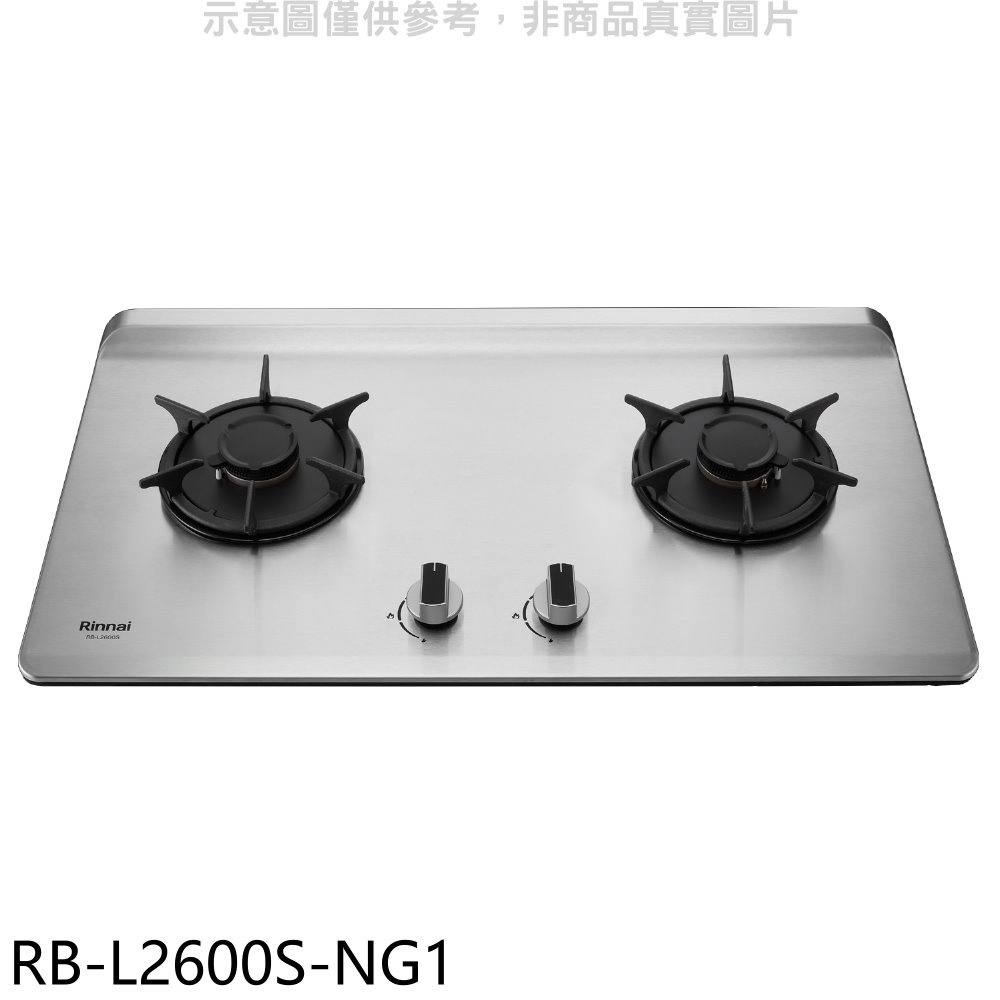gasoven: (16, 296, 981, 703)
